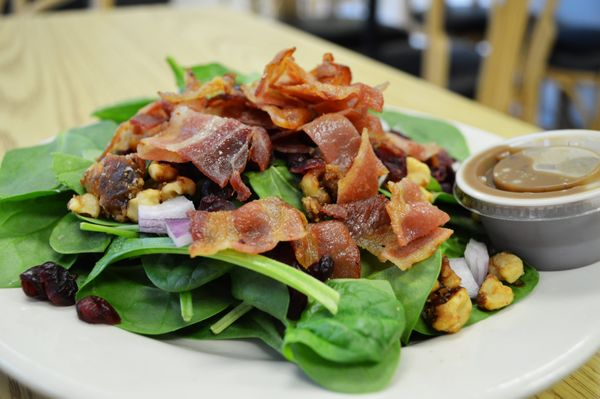sushi: (453, 129, 600, 272)
